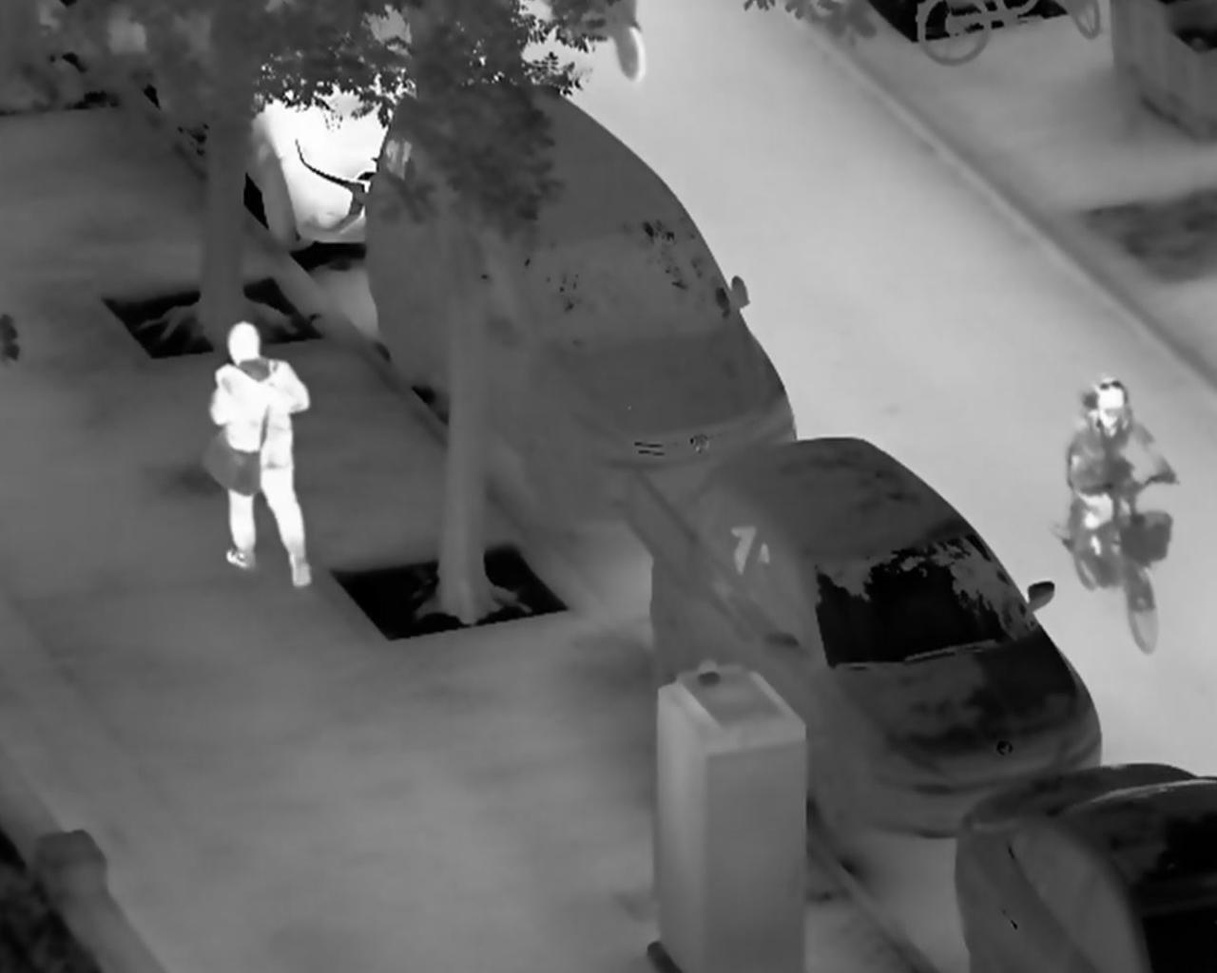person: (196, 320, 315, 588), (1065, 377, 1181, 567)
